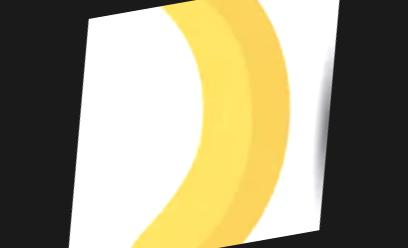Banana Ripe: (94, 0, 329, 248)
